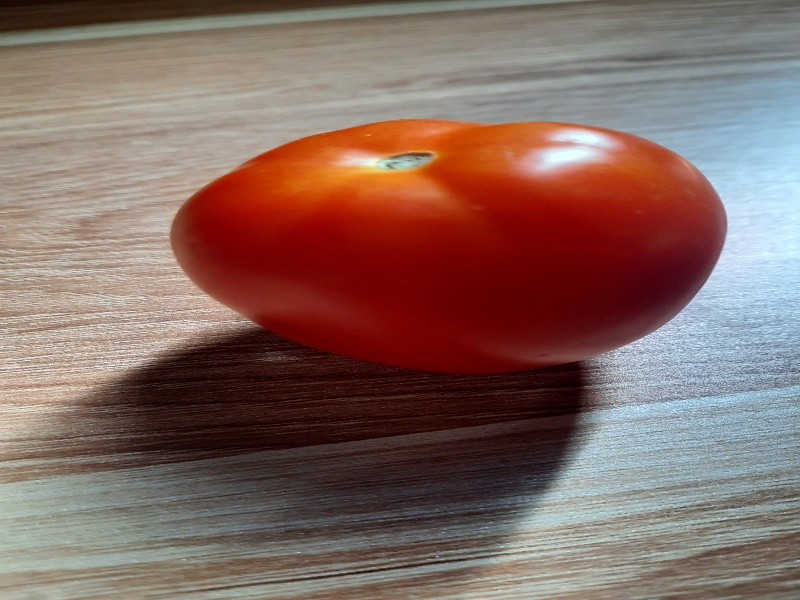vege: (161, 99, 728, 386)
